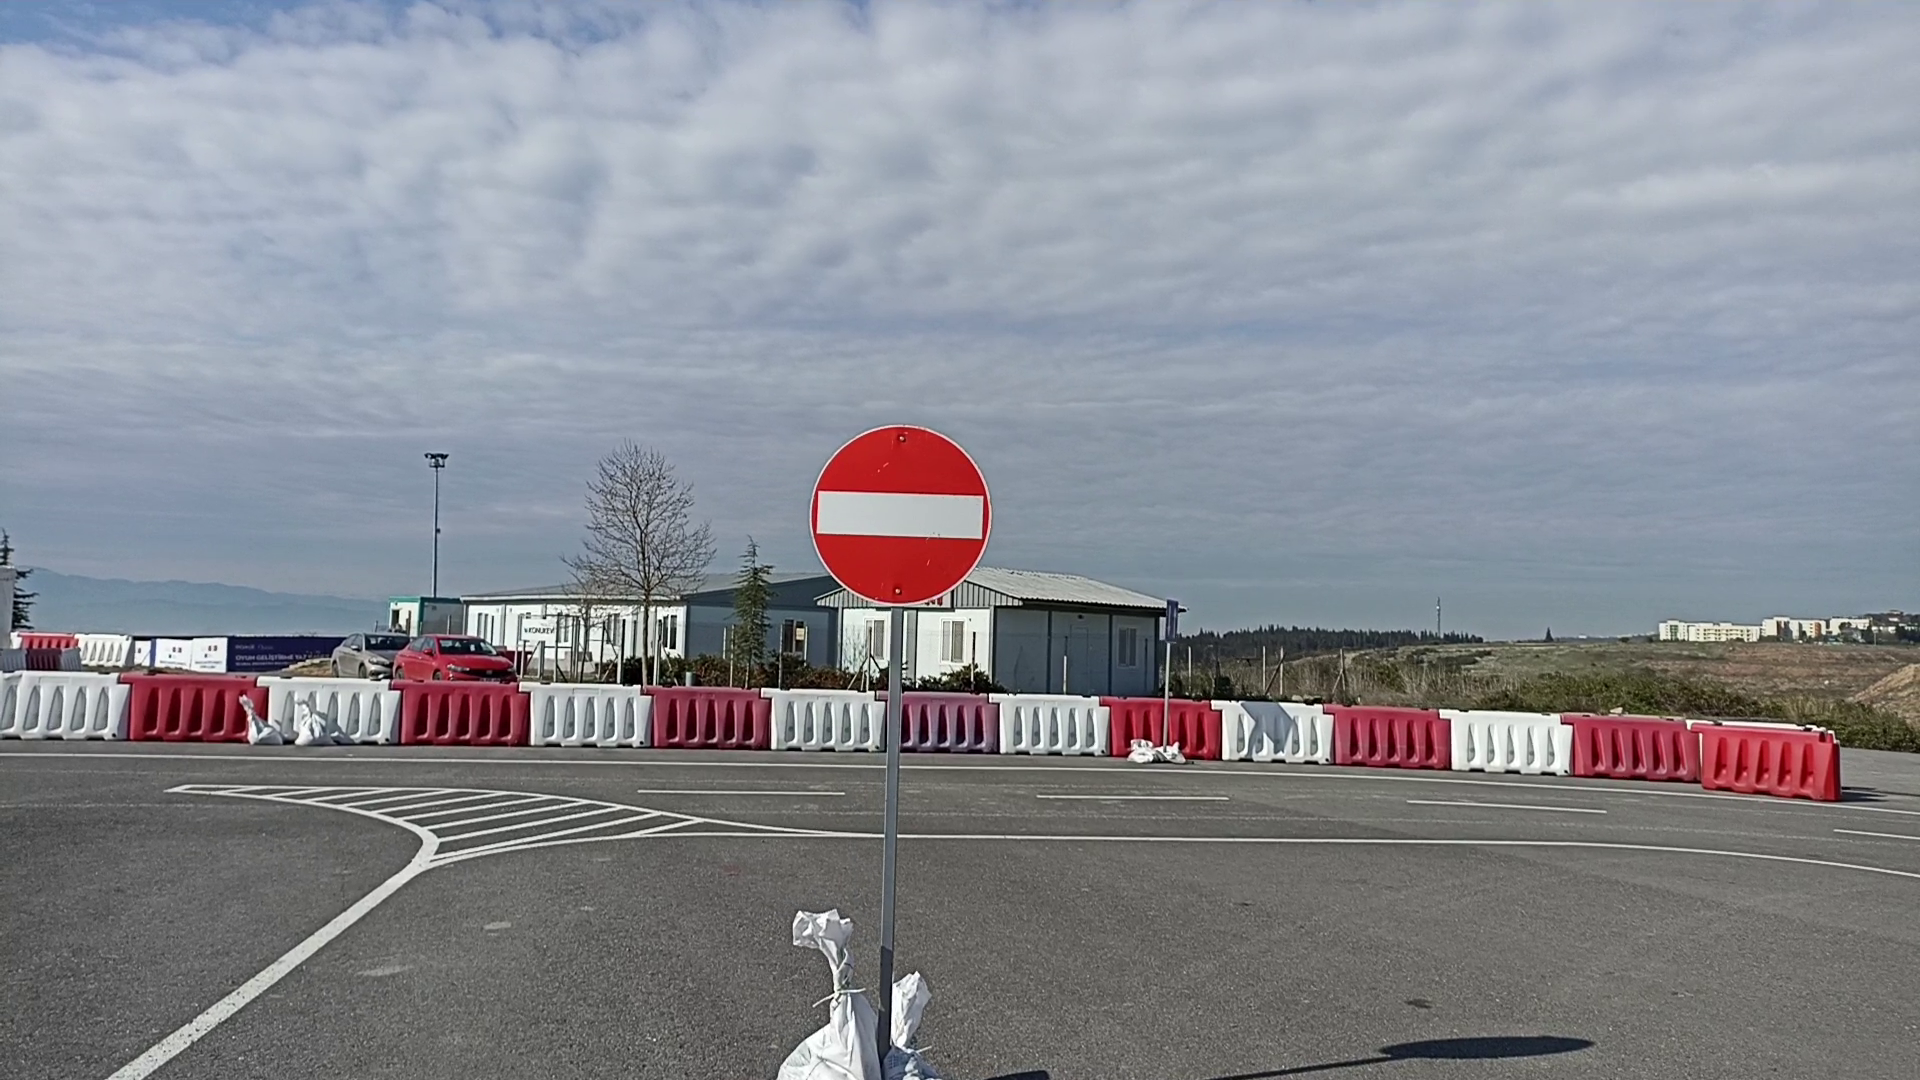noentryway: (806, 419, 996, 609)
